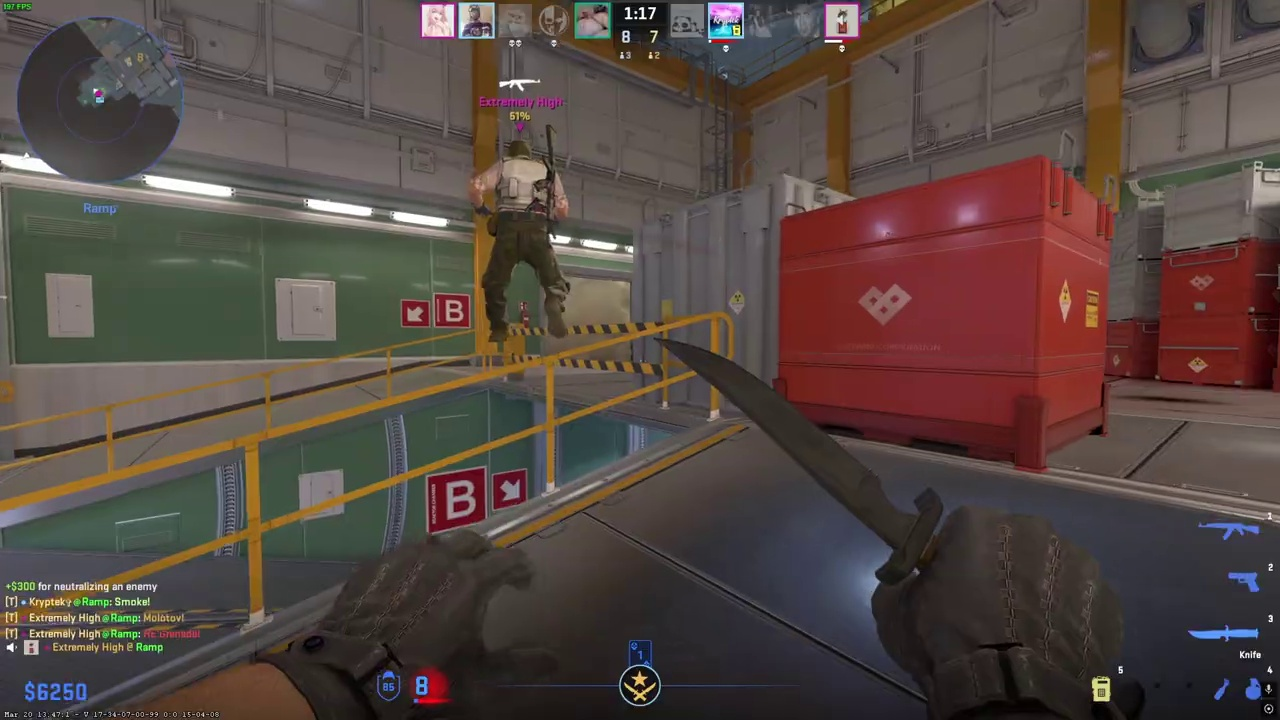Terrorist: (478, 139, 568, 346)
